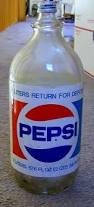pepsi: (19, 102, 80, 161)
